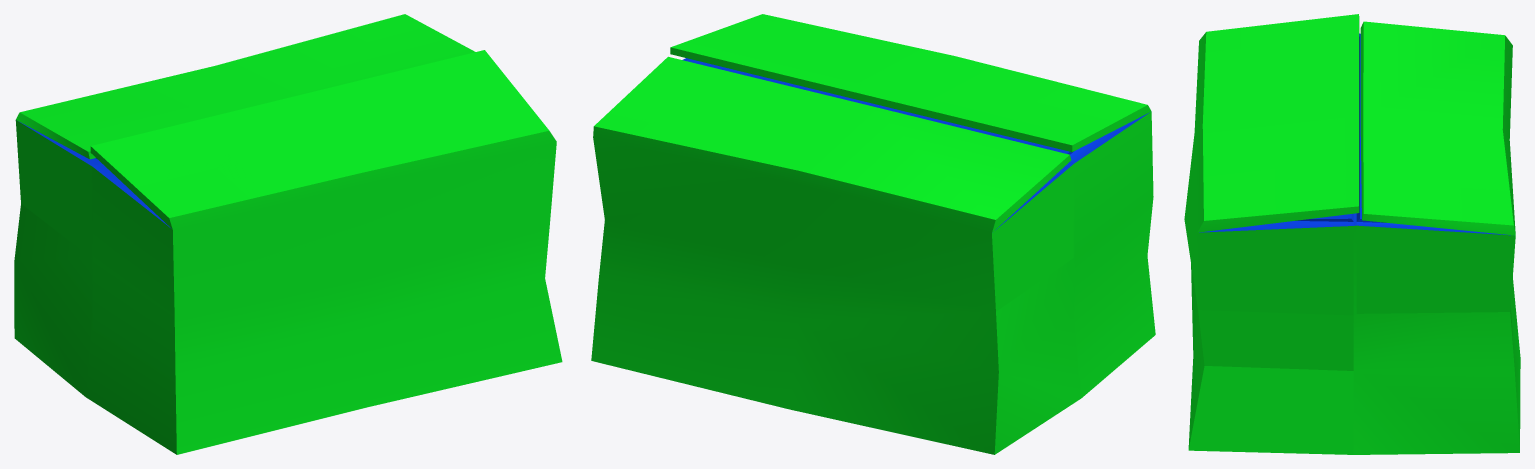
Rendered from PackageMidTierOpenNew.fbx.
3 views of the same model, side by side, from view 1: azimuth 30°, elevation 25°; view 2: azimuth 150°, elevation 25°; view 3: azimuth 270°, elevation 25° (orthographic).
Visible parts, largest first — view 1: Box001; view 2: Box001; view 3: Box001.
Part boxes in pixels (x1=…): Box001: x1=14, y1=14, x2=562, y2=454; Box001: x1=591, y1=14, x2=1155, y2=454; Box001: x1=1184, y1=14, x2=1520, y2=454.
Bounding box in the file's own units: 30.03 × 17.68 × 21.72.
